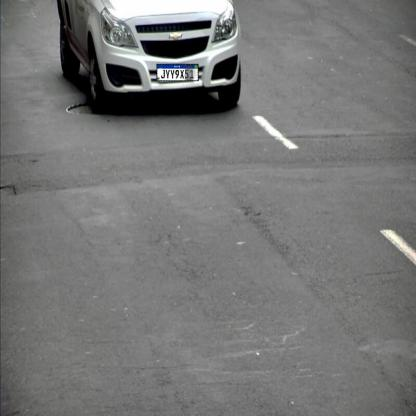PlacaM: (156, 64, 198, 81)
